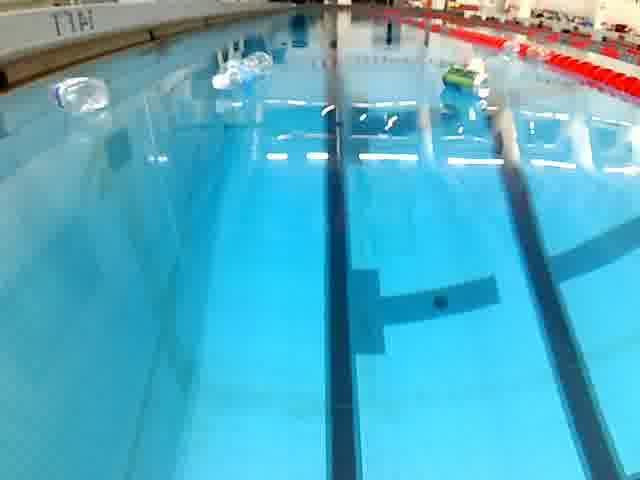Bottle: (206, 49, 277, 96), (45, 72, 114, 116)
Can: (440, 62, 496, 104)
